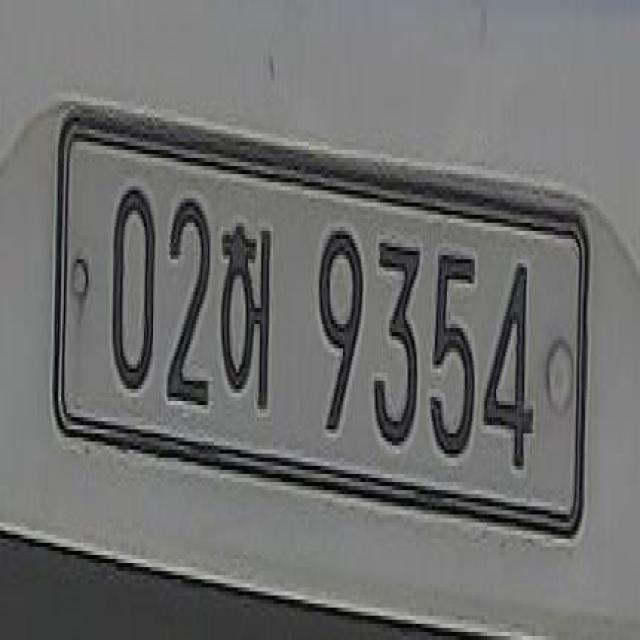illegal_plate: (54, 115, 596, 542)
